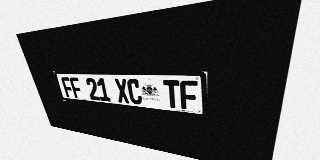1: (95, 78, 111, 102)
2: (85, 78, 100, 100)
C: (126, 79, 143, 105)
F: (180, 80, 198, 110), (69, 77, 84, 99), (61, 77, 75, 98)
T: (163, 80, 181, 109)
X: (114, 78, 130, 104)
